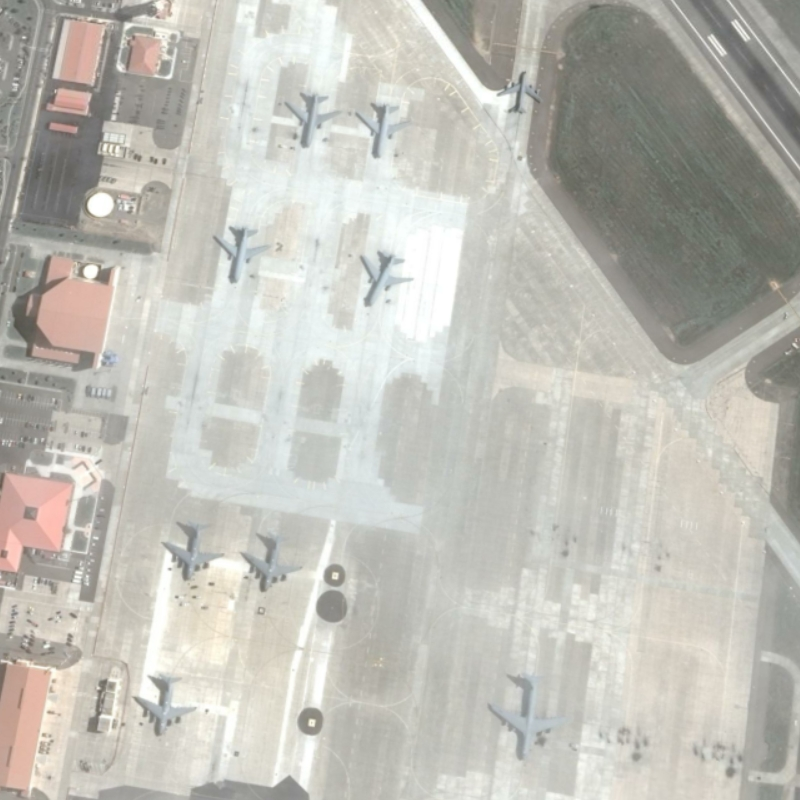A14: (494, 68, 545, 117)
A18: (212, 221, 274, 287), (352, 97, 414, 160), (357, 245, 417, 310), (282, 89, 343, 152)
A3: (237, 524, 309, 597), (128, 668, 202, 739), (158, 518, 228, 584)
A4: (485, 669, 570, 764)
